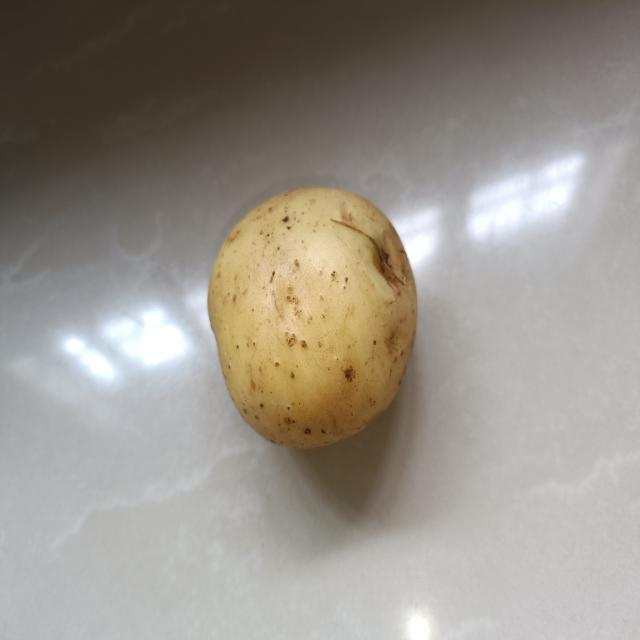potato: (204, 178, 422, 458)
